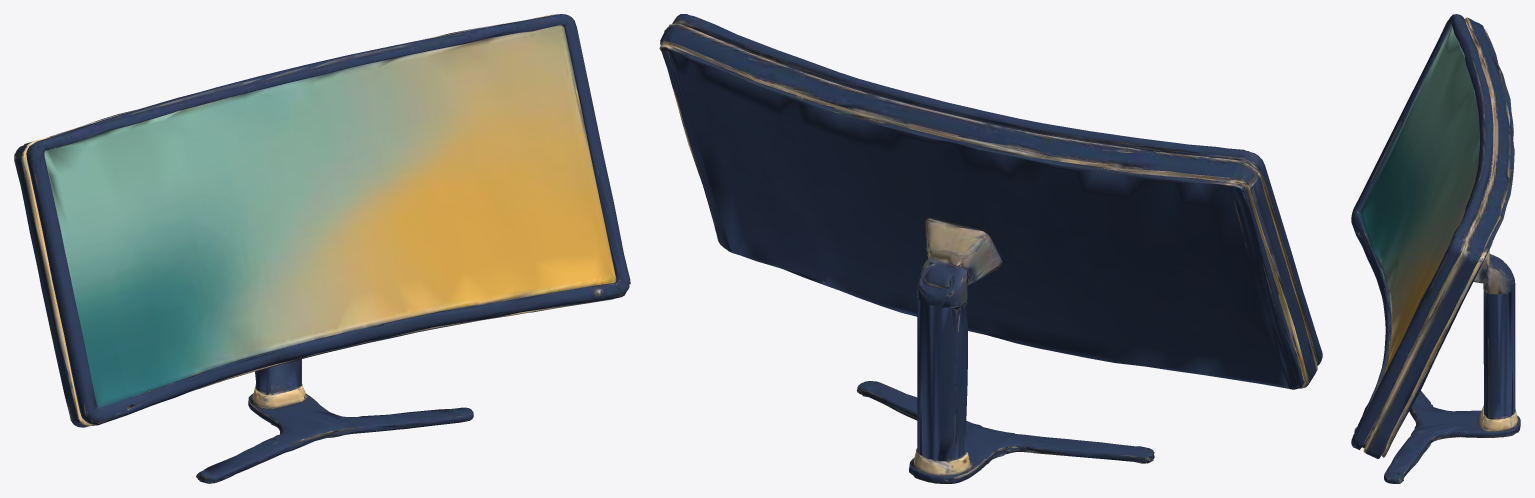
The model's file is monitor_ultrawide.glb.
3 renders of one model, left to right at view 1: azimuth 30°, elevation 25°; view 2: azimuth 150°, elevation 25°; view 3: azimuth 270°, elevation 25°, orthographic. The views are drawn at different scales.
Visible parts, largest first — view 1: prop; view 2: prop; view 3: prop.
Boxes of the visible parts, x1=… form: prop: x1=14, y1=14, x2=630, y2=483; prop: x1=659, y1=14, x2=1322, y2=483; prop: x1=1351, y1=14, x2=1520, y2=483.
Bounding box in the file's own units: 0.95 × 0.5669 × 0.289.
1 material, 1 textured.
